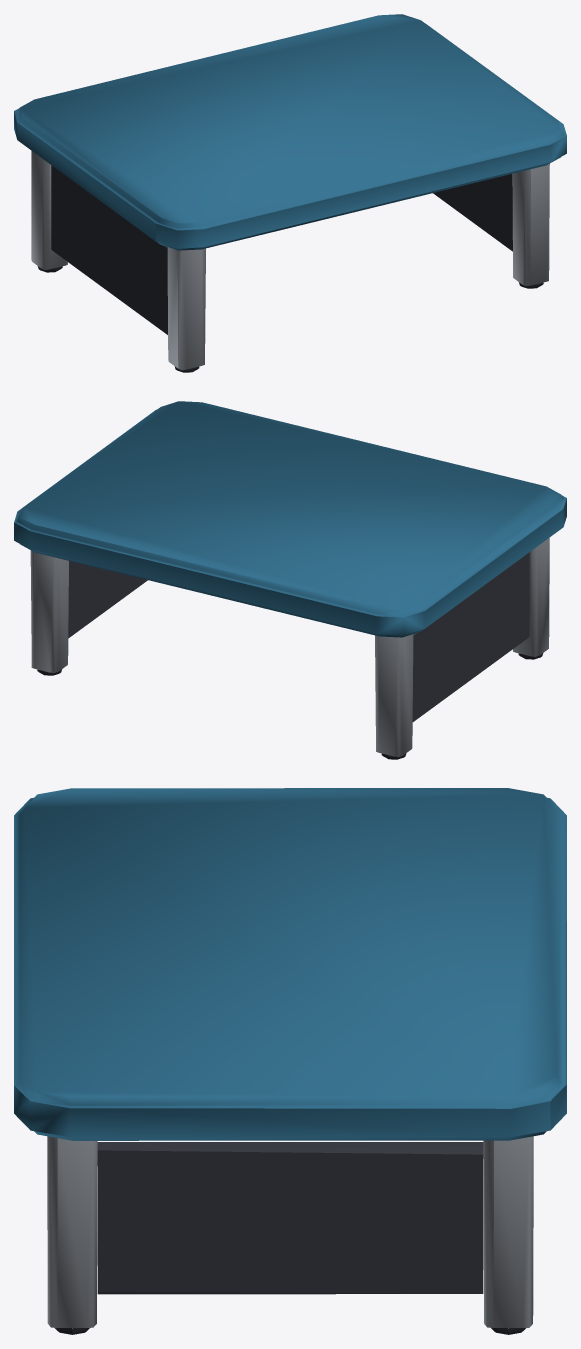
The model's file is shelf_model.glb.
The picture shows the model from 3 angles, top to bottom: view 1: azimuth 30°, elevation 25°; view 2: azimuth 150°, elevation 25°; view 3: azimuth 270°, elevation 25°; orthographic projection. The views are drawn at different scales.
Parts seen in each view (by area): view 1: shelf; view 2: shelf; view 3: shelf.
Boxes of the visible parts, <box> form: shelf: <box>14,14,566,372</box>; shelf: <box>14,401,566,759</box>; shelf: <box>14,788,566,1334</box>.
Bounding box in the file's own units: 0.333 × 0.1231 × 0.2454.
Materials: 1 (1 with a texture image).
